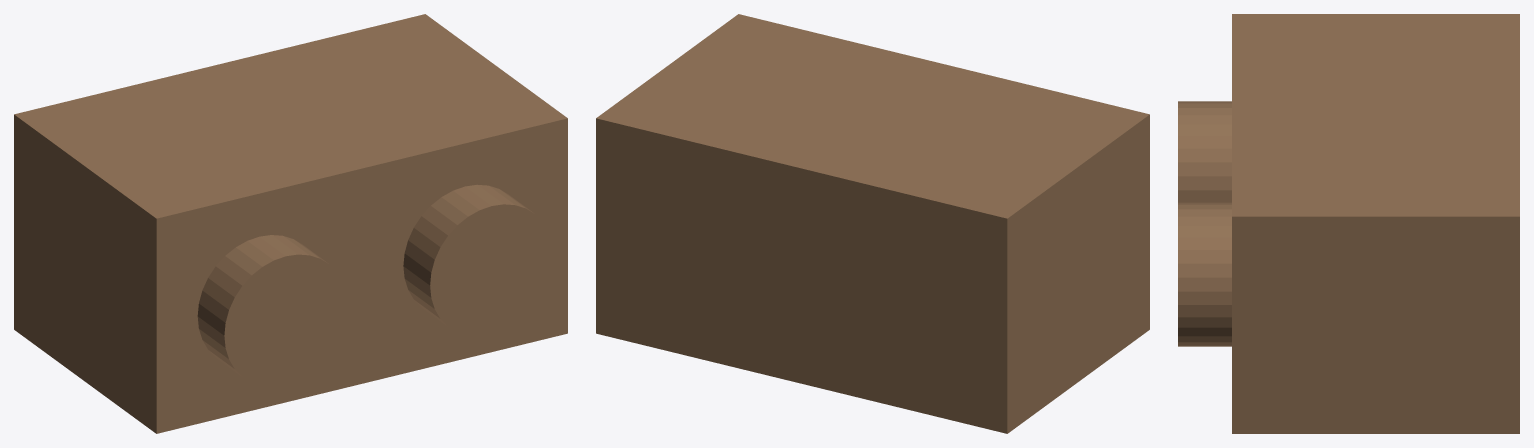
Rendered from brick_3.glb.
The picture shows the model from 3 angles, left to right: view 1: azimuth 30°, elevation 25°; view 2: azimuth 150°, elevation 25°; view 3: azimuth 270°, elevation 25°; orthographic projection.
Visible parts, largest first — view 1: world; view 2: world; view 3: world.
Part boxes in pixels (x1,y1,x2,y2): world: (14,14,567,433); world: (596,14,1149,433); world: (1178,14,1519,433).
Bounding box in the file's own units: 16 × 8 × 11.4.
